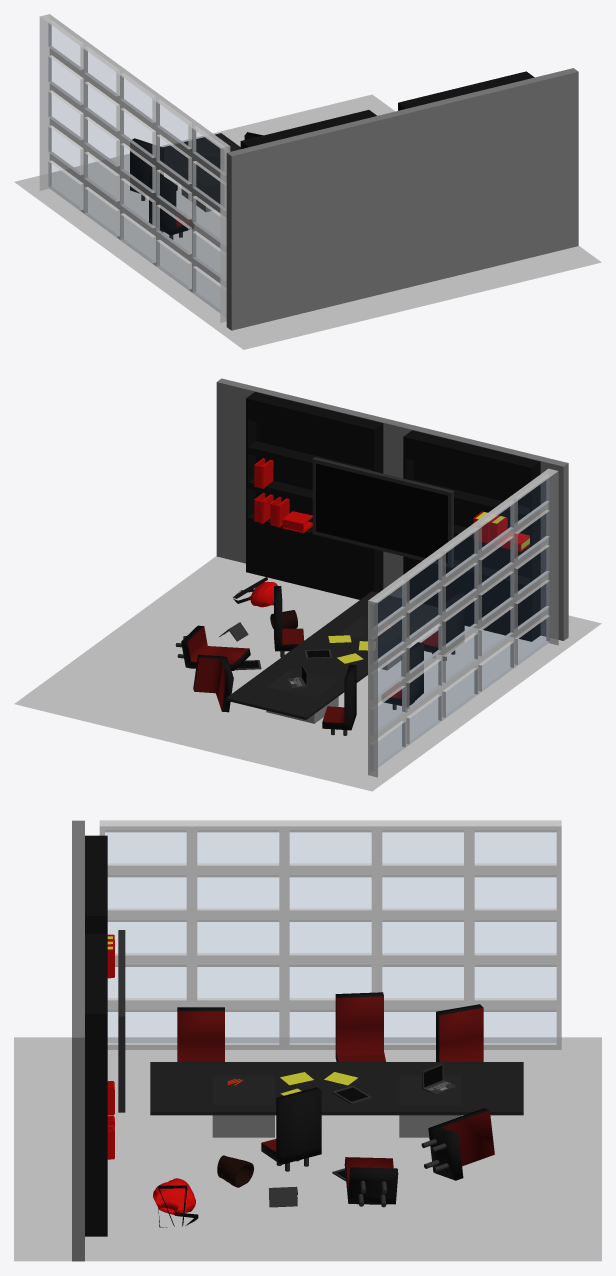
The model's file is oficina.fbx.
3 renders of one model, top to bottom at view 1: azimuth 30°, elevation 25°; view 2: azimuth 150°, elevation 25°; view 3: azimuth 270°, elevation 25°, orthographic. The views are drawn at different scales.
Parts seen in each view (by area): view 1: Mesh (4); view 2: Mesh (4); view 3: Mesh (4).
Boxes of the visible parts, x1=… form: Mesh (4): x1=14, y1=14, x2=601, y2=349; Mesh (4): x1=14, y1=378, x2=601, y2=791; Mesh (4): x1=14, y1=820, x2=601, y2=1261.
Bounding box in the file's own units: 1002 × 476 × 1112.
